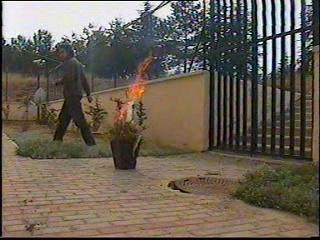fire: (123, 56, 151, 114)
